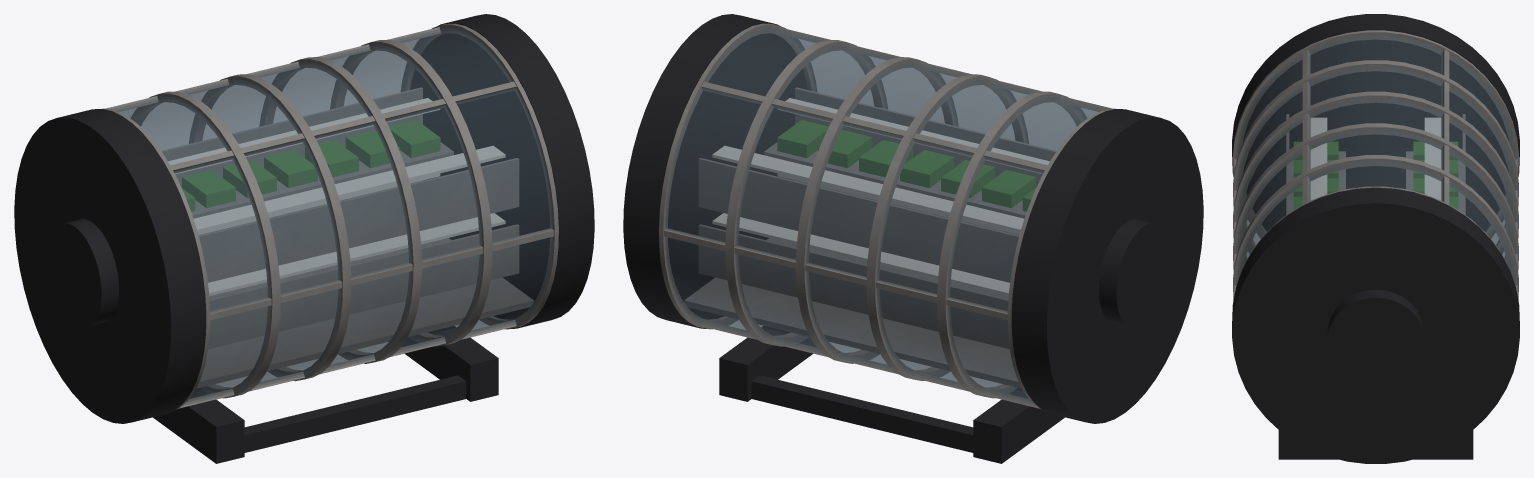
File: rover12_greenhouse.glb
3 views of the same model, side by side, from view 1: azimuth 30°, elevation 25°; view 2: azimuth 150°, elevation 25°; view 3: azimuth 270°, elevation 25° (orthographic). The views are drawn at different scales.
Parts seen in each view (by area): view 1: glazing, end_bulkheads, grow_trays, hoop_ribs, base_skid, floor, stringers, grow_lights, plants; view 2: glazing, end_bulkheads, grow_trays, hoop_ribs, base_skid, floor, stringers, grow_lights, plants; view 3: end_bulkheads, glazing, hoop_ribs, stringers, grow_lights, plants, base_skid, grow_trays.
Boxes of the visible parts, x1,y1,x2,y2 form: glazing: (111,28,552,405); end_bulkheads: (14,14,594,423); grow_trays: (161,87,519,348); hoop_ribs: (102,23,558,409); base_skid: (153,326,498,463); floor: (196,238,533,388); stringers: (106,27,553,408); grow_lights: (168,98,505,295); plants: (182,120,440,211); glazing: (665,28,1106,405); end_bulkheads: (623,14,1203,423); grow_trays: (698,87,1056,348); hoop_ribs: (659,23,1115,409); base_skid: (719,326,1064,463); floor: (684,238,1021,388); stringers: (664,27,1111,408); grow_lights: (712,98,1049,295); plants: (777,120,1035,211); end_bulkheads: (1232,14,1519,463); glazing: (1236,35,1515,285); hoop_ribs: (1233,30,1518,300); stringers: (1234,49,1517,295); grow_lights: (1310,117,1441,199); plants: (1293,141,1458,209); base_skid: (1278,430,1473,459); grow_trays: (1286,114,1465,214).
Size of the model in its own units: 6.5 by 4.25 by 3.85.
5 materials, 1 textured.
